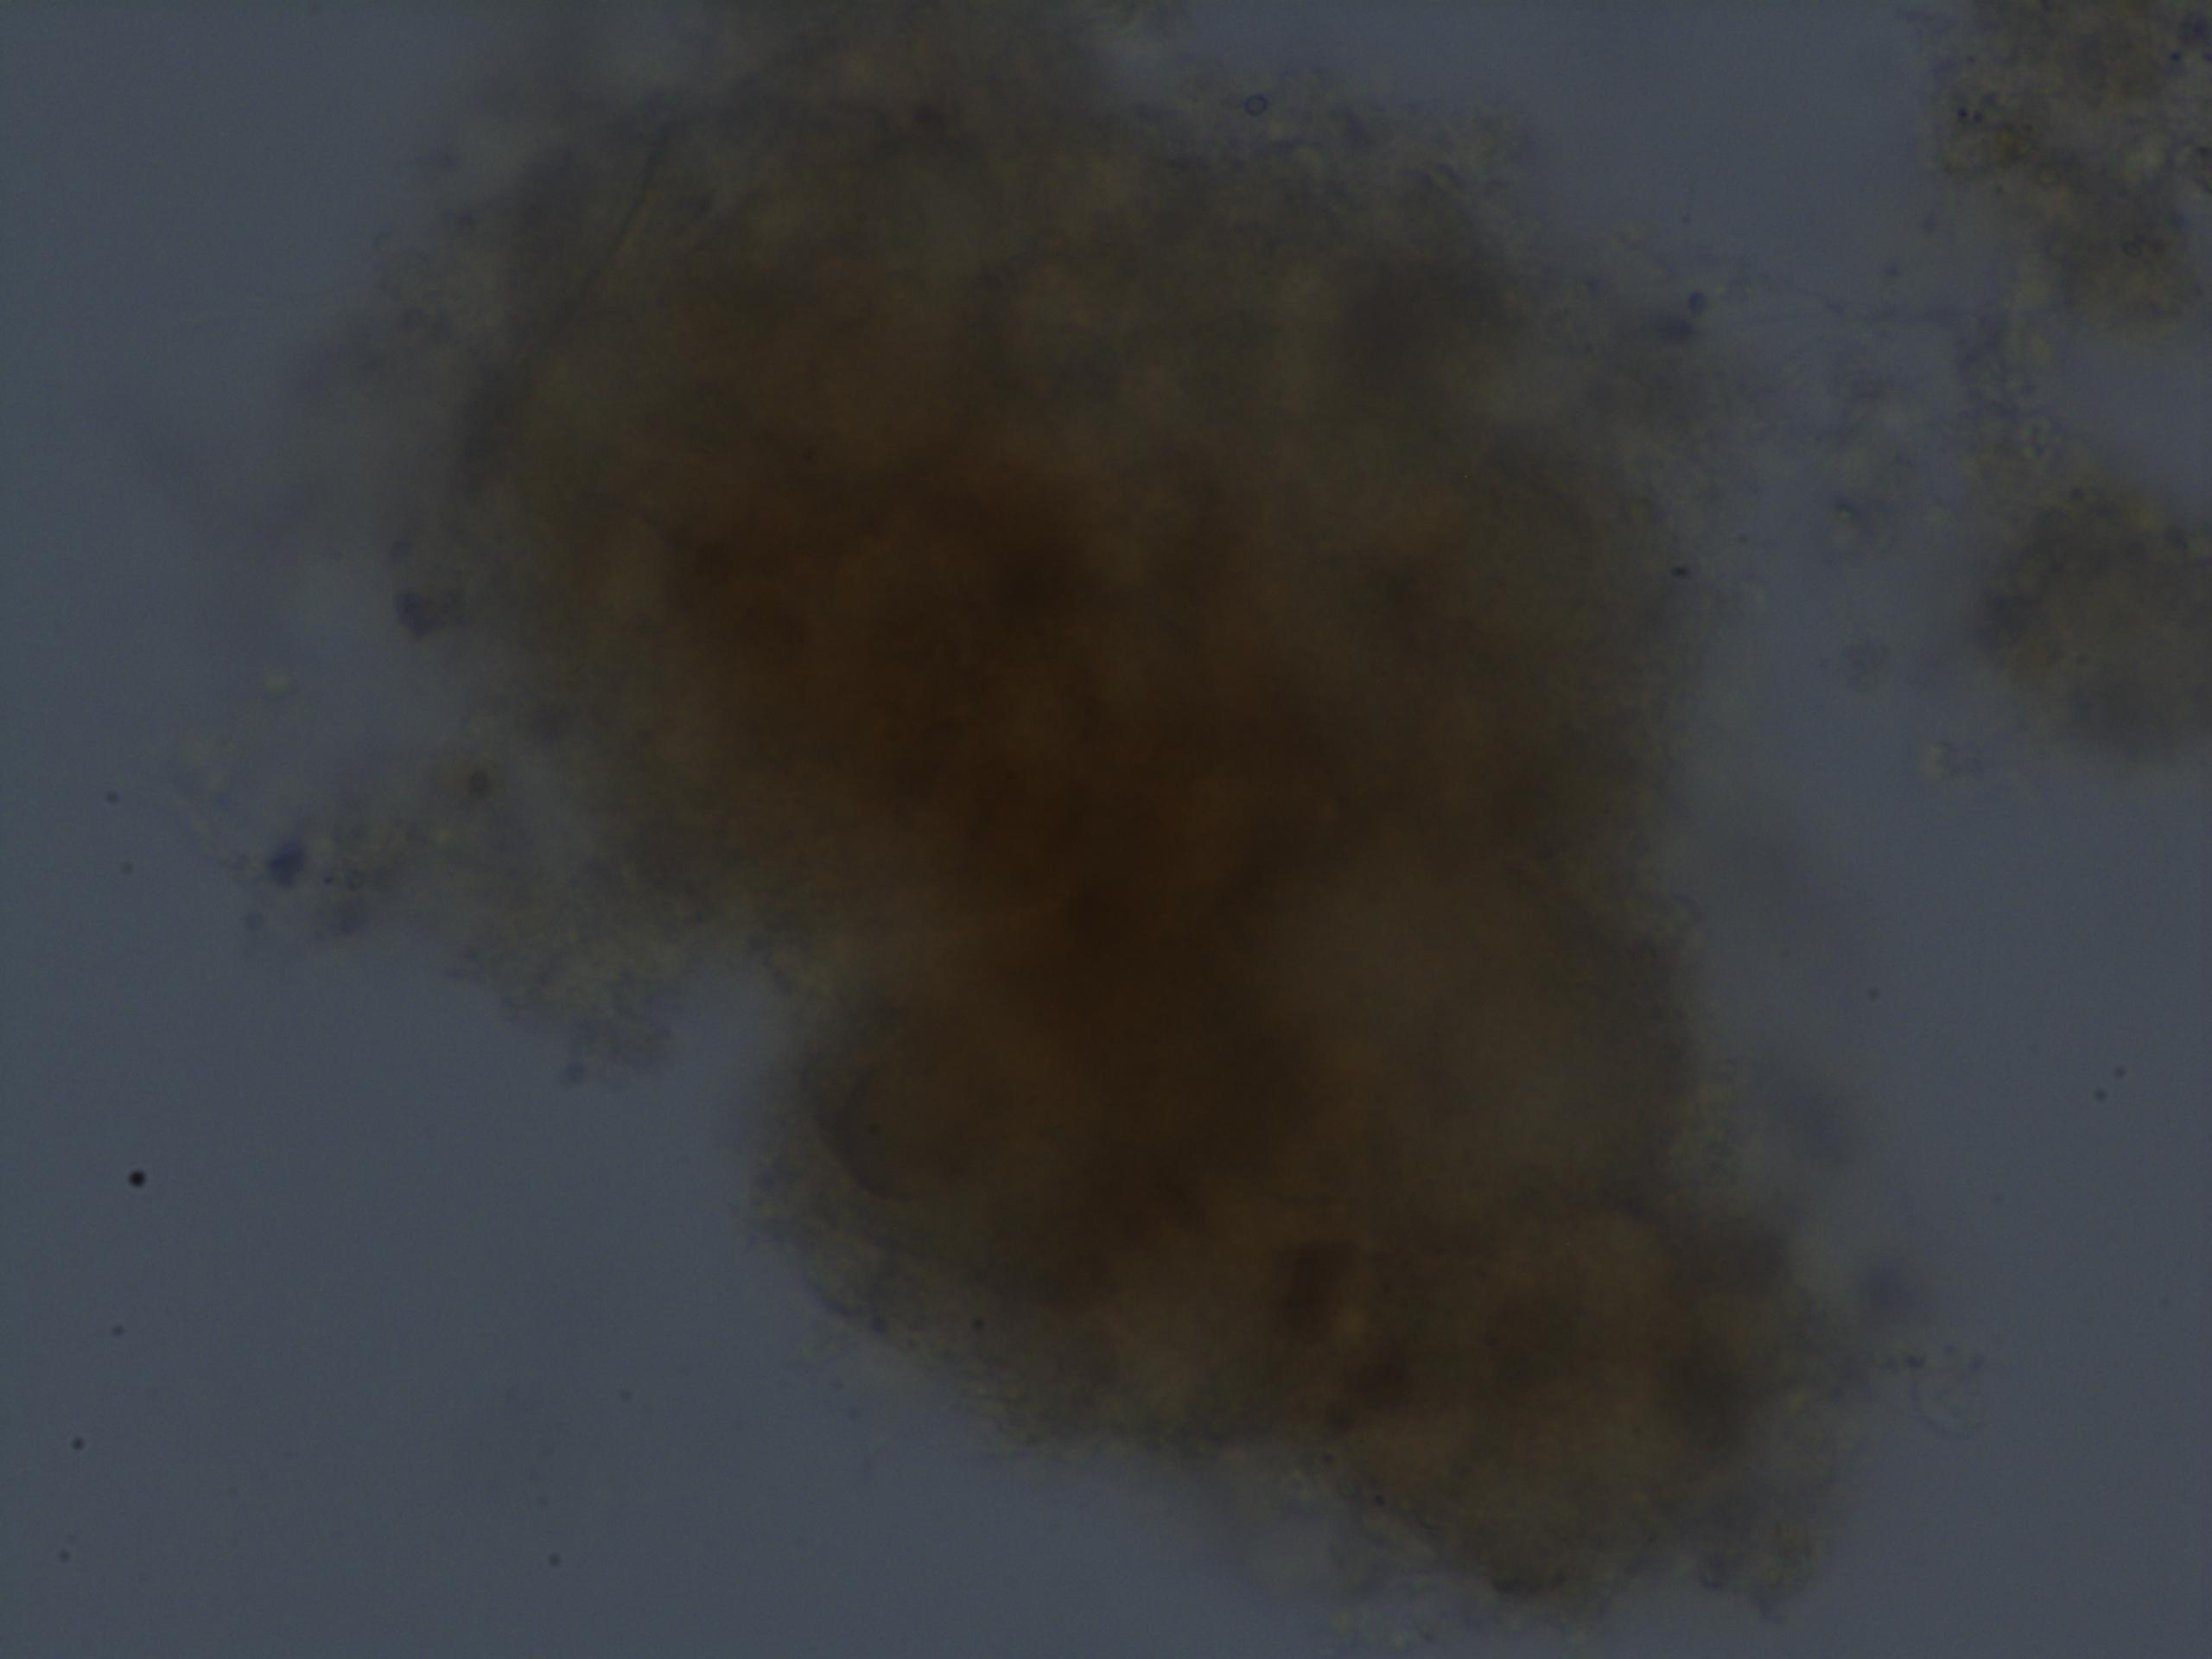spherical_floc: (373, 9, 1883, 1659)
